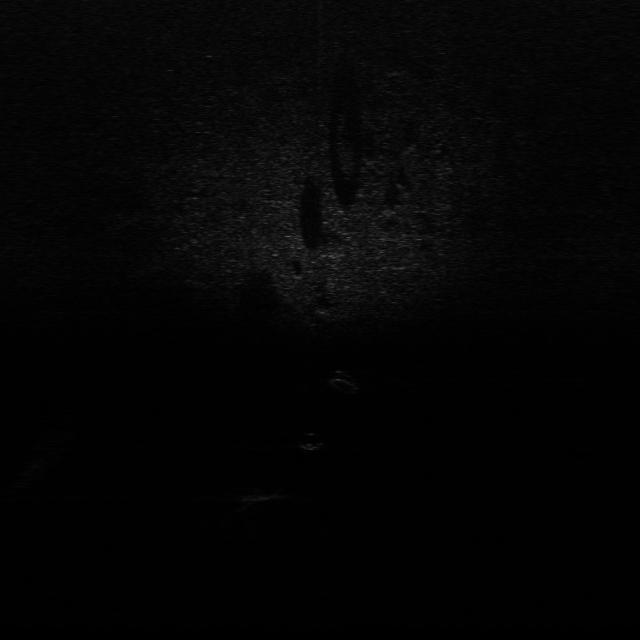ball: (294, 429, 326, 452)
square cage: (240, 484, 290, 504)
tyre: (329, 368, 362, 395)
